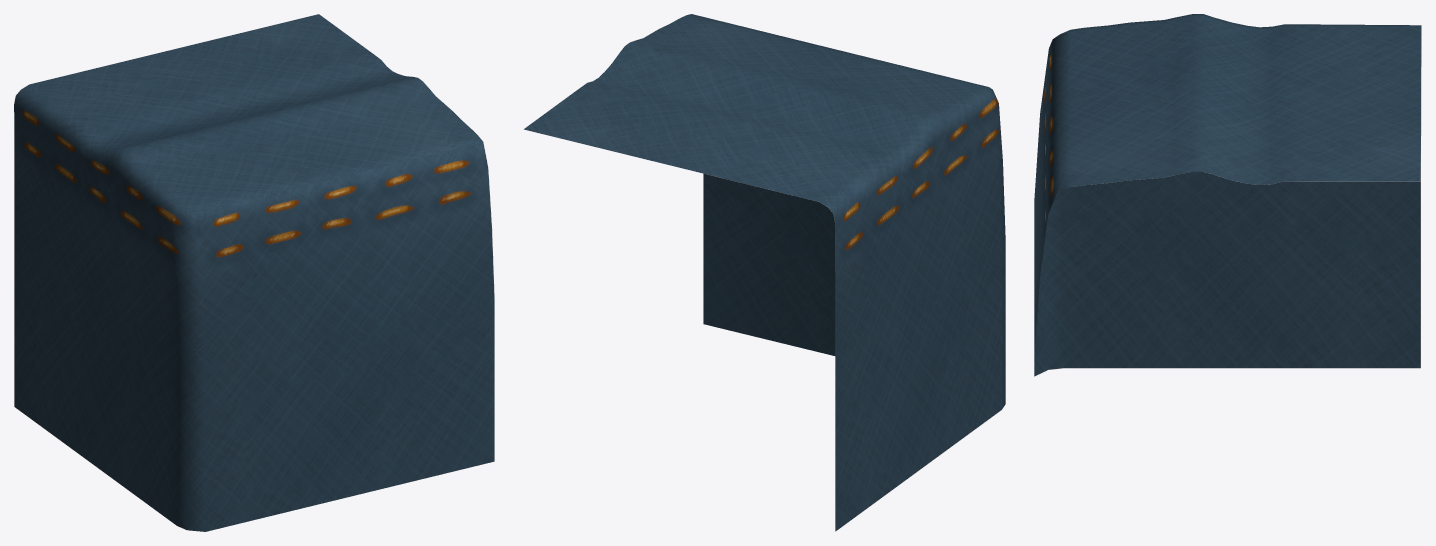
The model's file is tl1_3_endcurveR.FBX.
The picture shows the model from 3 angles, left to right: view 1: azimuth 30°, elevation 25°; view 2: azimuth 150°, elevation 25°; view 3: azimuth 270°, elevation 25°; orthographic projection. The views are drawn at different scales.
Parts seen in each view (by area): view 1: tl_endcurveR; view 2: tl_endcurveR; view 3: tl_endcurveR.
Boxes of the visible parts, x1,y1,x2,y2 form: tl_endcurveR: (14, 14, 494, 531); tl_endcurveR: (523, 14, 1005, 531); tl_endcurveR: (1034, 14, 1421, 376).
Size of the model in its own units: 100 by 103 by 100.
